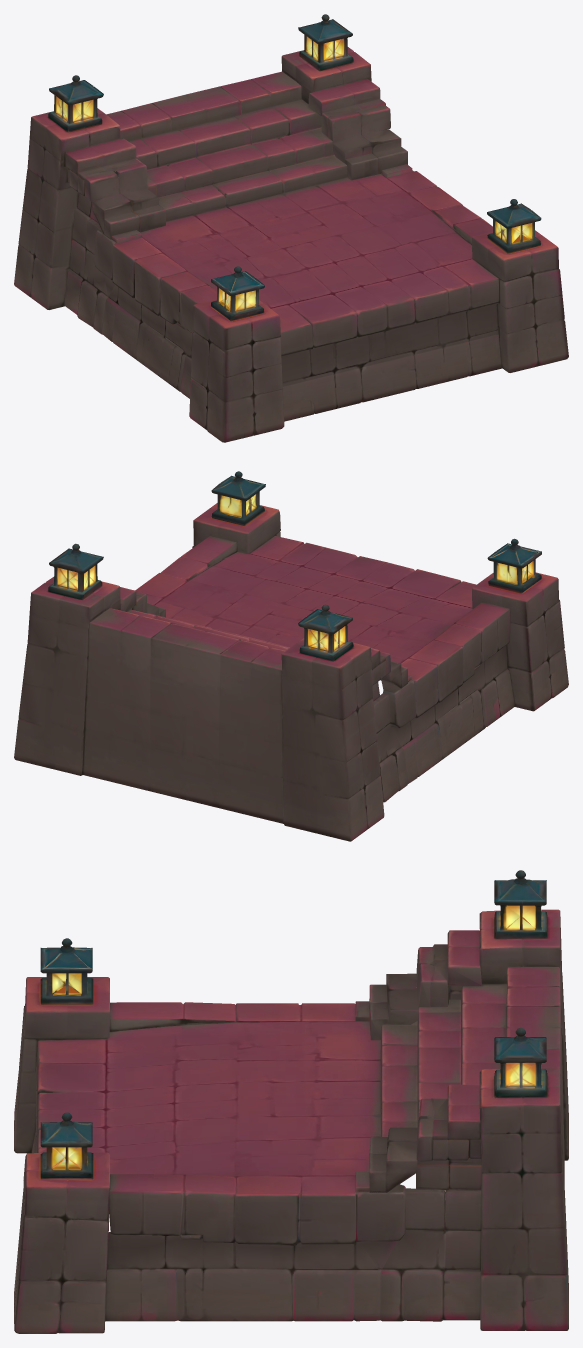
The model's file is SM_Tripo_ZhurongLanding.glb.
3 views of the same model, one above another, from view 1: azimuth 30°, elevation 25°; view 2: azimuth 150°, elevation 25°; view 3: azimuth 270°, elevation 25° (orthographic). The views are drawn at different scales.
Visible parts, largest first — view 1: SM_Tripo_ZhurongLanding_LOD0; view 2: SM_Tripo_ZhurongLanding_LOD0; view 3: SM_Tripo_ZhurongLanding_LOD0.
Boxes of the visible parts, <box> form: SM_Tripo_ZhurongLanding_LOD0: <box>14,14,568,442</box>; SM_Tripo_ZhurongLanding_LOD0: <box>14,471,568,841</box>; SM_Tripo_ZhurongLanding_LOD0: <box>14,870,568,1333</box>.
Size of the model in its own units: 6.8 by 4 by 7.3.
1 material, 1 textured.
